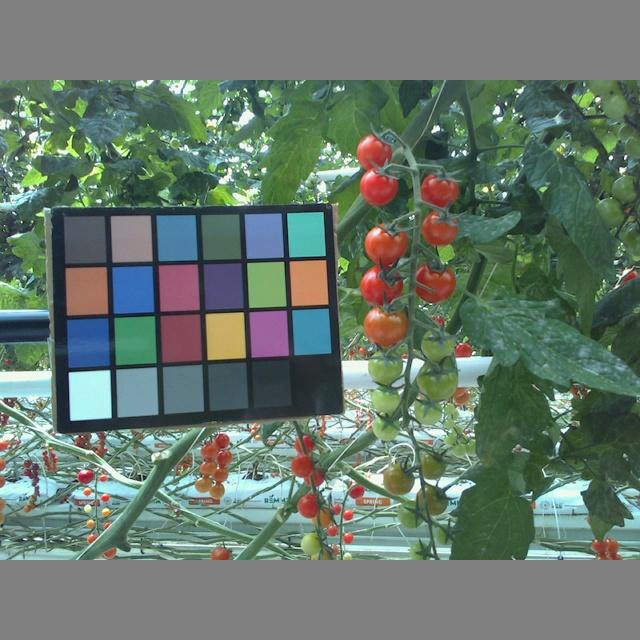green: (415, 358, 459, 402), (417, 328, 457, 364), (368, 348, 404, 385), (591, 197, 625, 235), (609, 173, 640, 206), (415, 485, 446, 516), (370, 384, 400, 415), (395, 497, 425, 528), (417, 447, 445, 480), (373, 410, 399, 443), (413, 395, 441, 424), (300, 533, 324, 556), (406, 541, 433, 558)
pink: (363, 223, 409, 266), (365, 305, 408, 348), (418, 170, 459, 208), (356, 133, 394, 173), (421, 209, 458, 246), (380, 461, 416, 497), (291, 454, 318, 480), (297, 493, 324, 517), (294, 430, 317, 457)
red: (361, 267, 411, 307), (414, 262, 459, 304), (359, 164, 397, 204)
